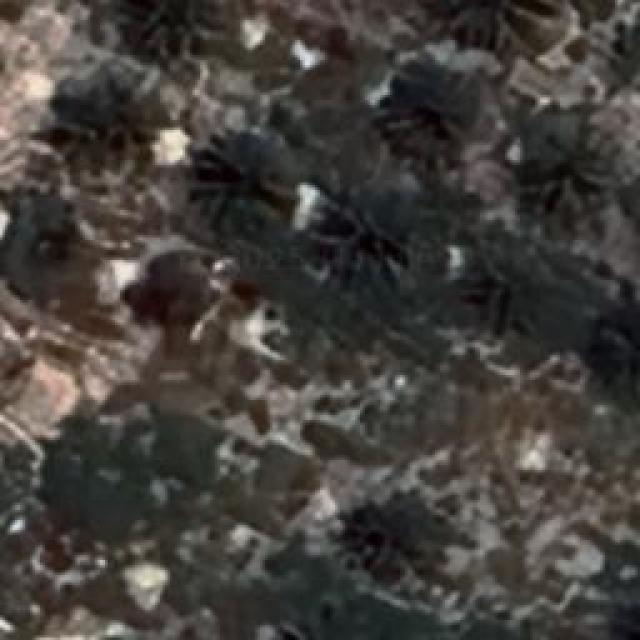PalmTree: (48, 100, 393, 537), (88, 86, 616, 346), (190, 137, 295, 235), (314, 192, 406, 298), (392, 58, 476, 166), (56, 71, 154, 161), (524, 126, 618, 219), (462, 251, 546, 329), (438, 0, 552, 48), (367, 322, 455, 378), (128, 264, 200, 332), (132, 0, 225, 52), (584, 20, 638, 98), (601, 577, 640, 640)
